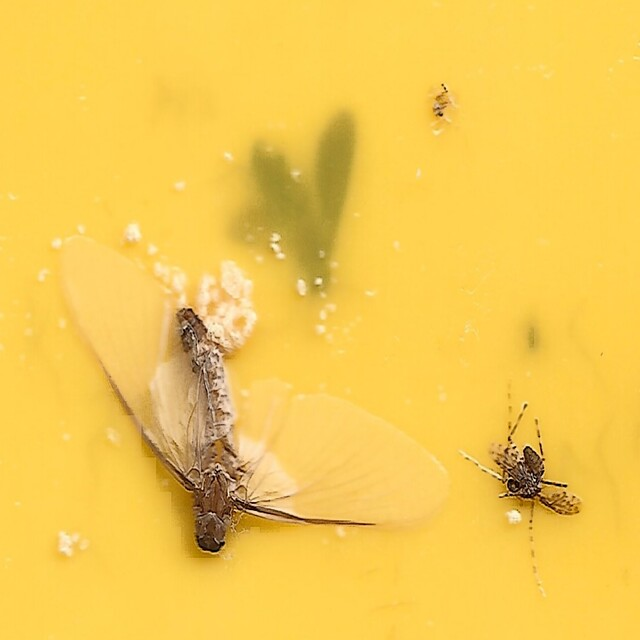Ephemeroptera: (56, 232, 444, 560)
Nematocera: (459, 405, 584, 524), (432, 80, 454, 127)
